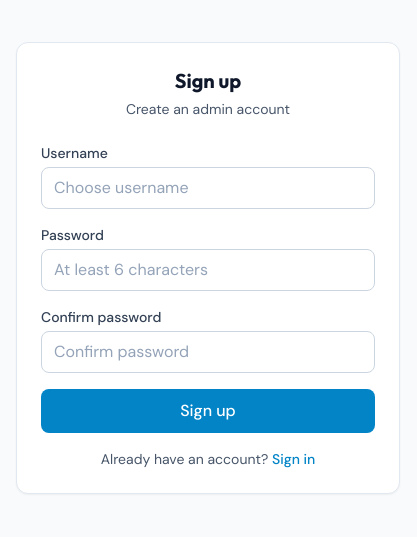
Test: SignUp › shows error when passwords do not match
Type "newuser" into the field labelled "Username" at coordinates (208, 188), box [41,167,375,209]
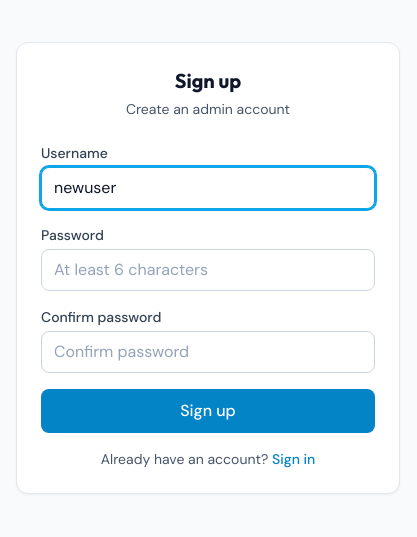
Type "password1" into the password field labelled "Password" at coordinates (208, 270), box [41,249,375,291]
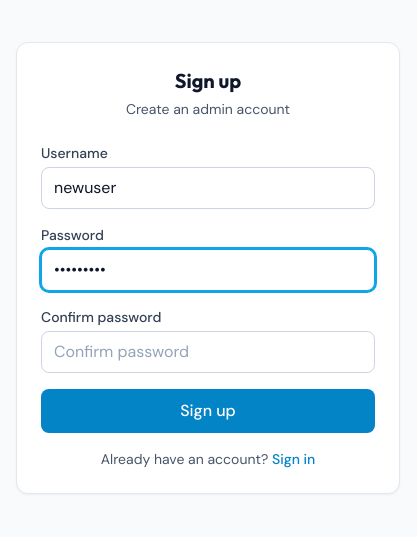
Type "password2" into the password field labelled "Confirm password" at coordinates (208, 352), box [41,331,375,373]
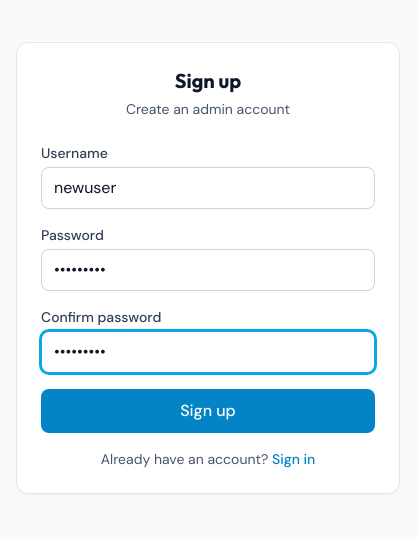
Click the button "Sign up" at coordinates (208, 411), box [41,389,375,433]
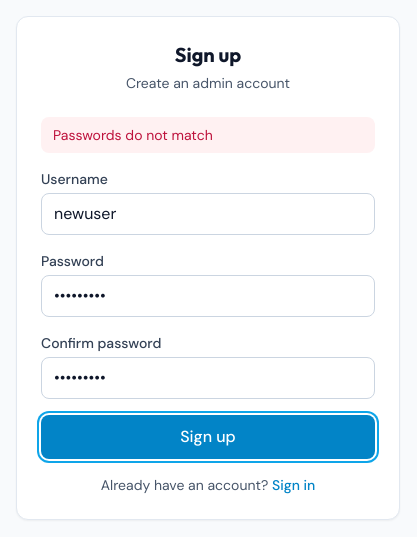
Check: the text "Passwords do not match" is shown, box [41,117,375,153]
